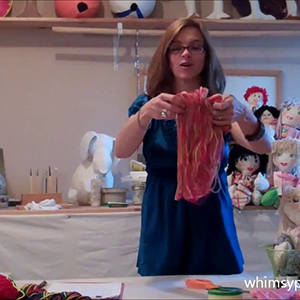person: (105, 17, 276, 276)
